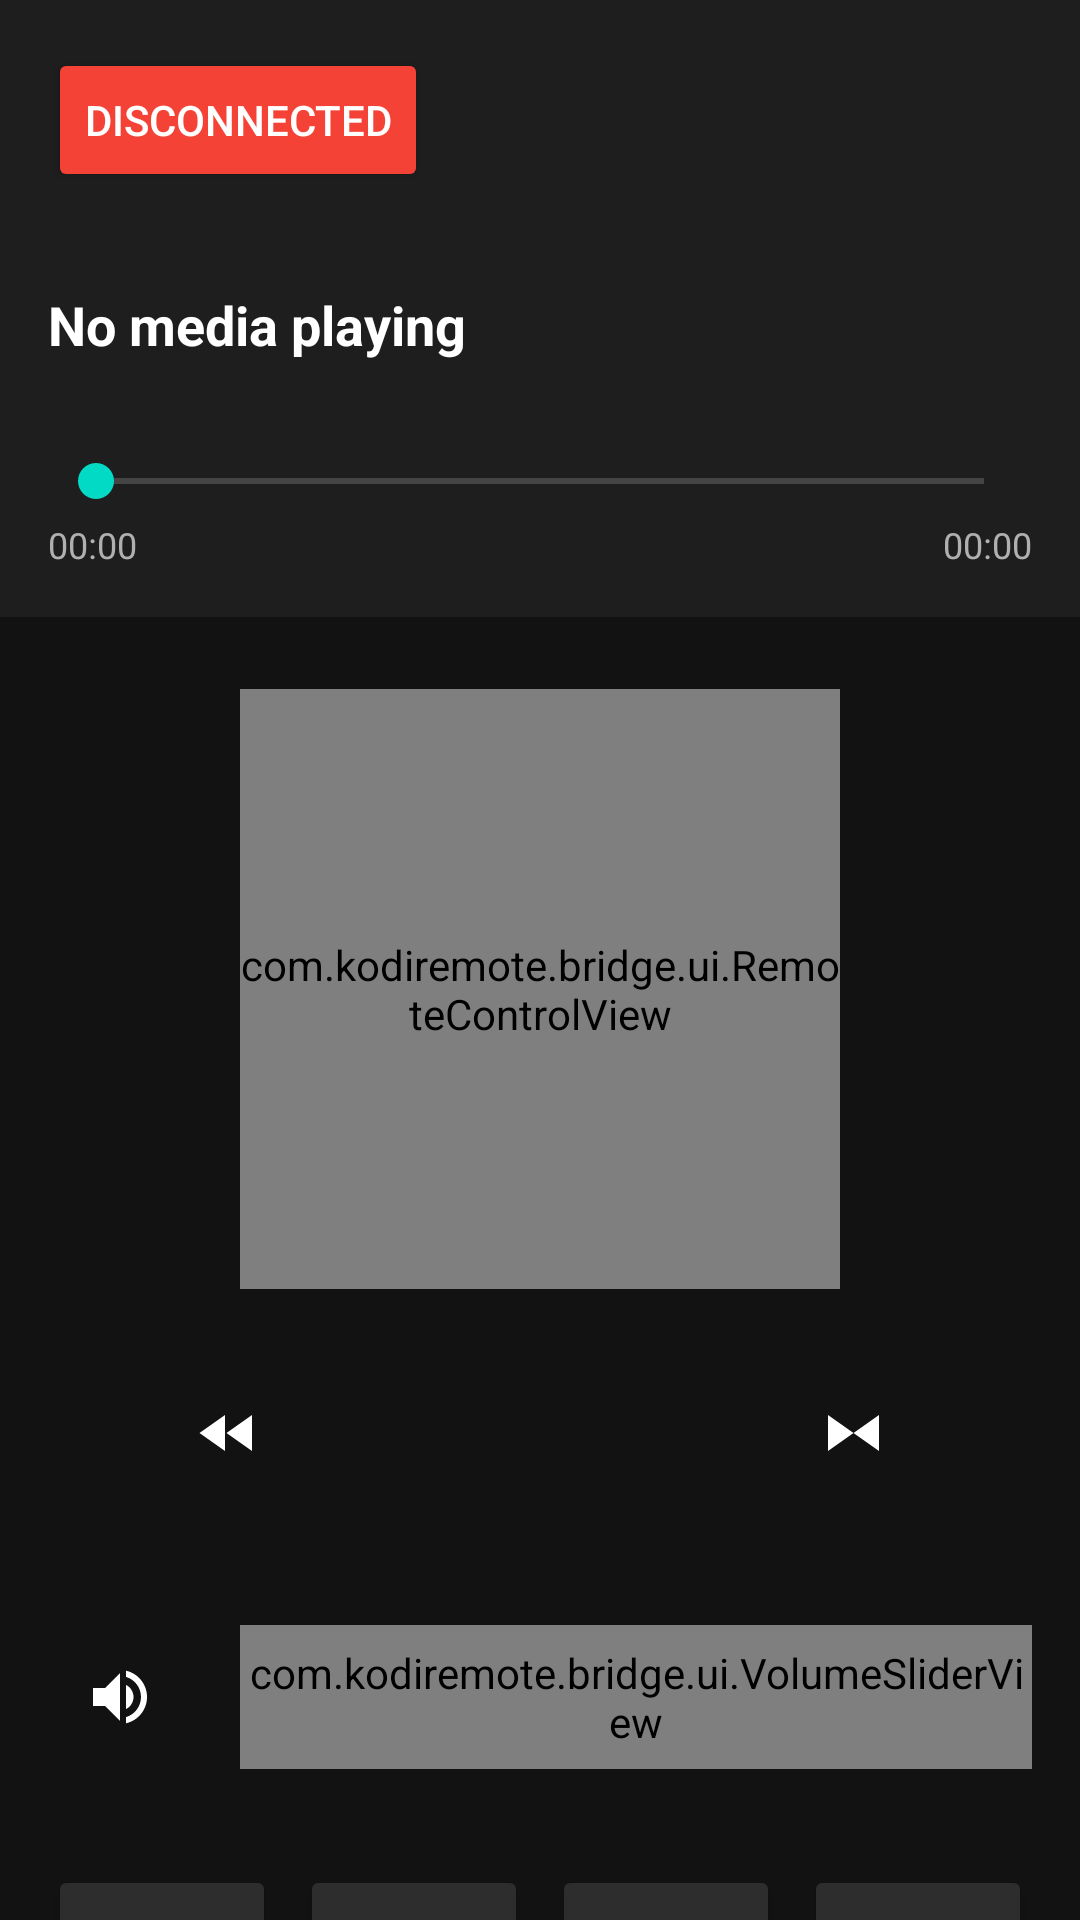

Screen size 1080w x 1920h. Icon name, then its box in pixels as (x1, y1, x2, y2):
Mute: (93, 1670, 147, 1724)
Rewind: (200, 1415, 252, 1451)
